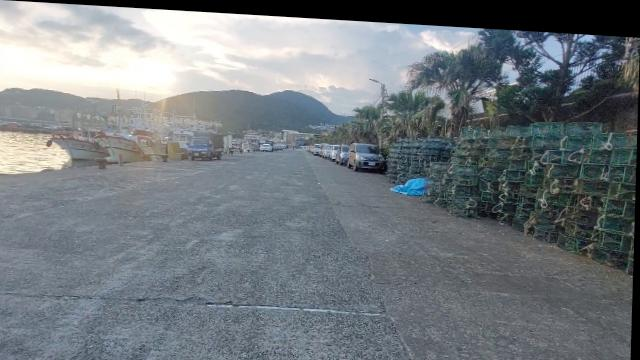pollute: (391, 172, 428, 193)
